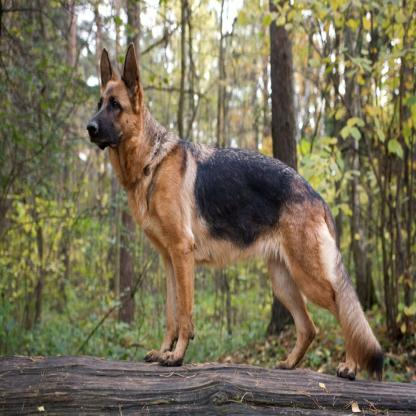german shepherd: (88, 46, 384, 377)
